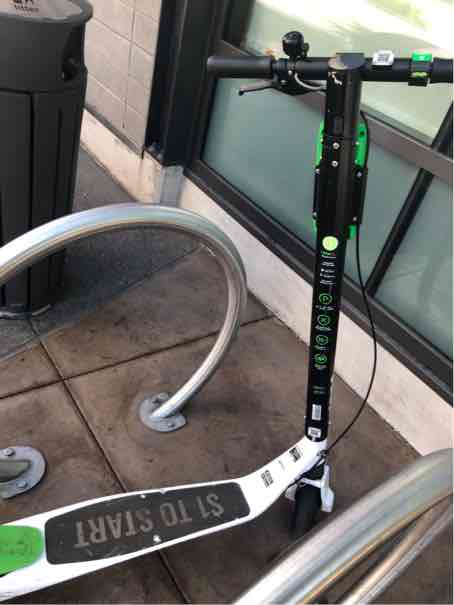scooter: (2, 38, 452, 605)
